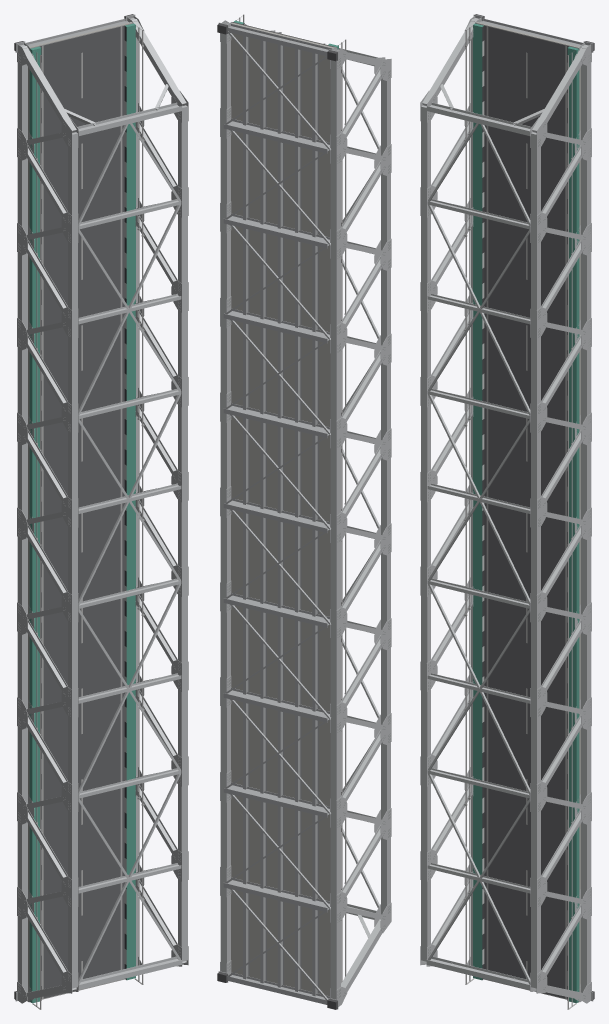
3 views of the same model, side by side, from view 1: azimuth 30°, elevation 25°; view 2: azimuth 150°, elevation 25°; view 3: azimuth 330°, elevation 25° (orthographic).
Visible parts, largest first — view 1: B2_baja, B2_aspal, B2_kerb, B2_merah_lantai, B2_marka_putih_lantai, B2_putih, B2_beton, B2_hitam, B2_baut, B2_marka_kuning_lantai, B2_baja_bawah; view 2: B2_beton, B2_baja_bawah, B2_baja, B2_merah_lantai, B2_baut, B2_bantalan; view 3: B2_baja, B2_aspal, B2_kerb, B2_merah_lantai, B2_marka_putih_lantai, B2_putih, B2_beton, B2_hitam, B2_baut, B2_marka_kuning_lantai, B2_baja_bawah.
Boxes of the visible parts, x1,y1,x2,y2 form: B2_baja: [17, 16, 188, 1003]; B2_aspal: [40, 25, 124, 998]; B2_kerb: [29, 23, 135, 1003]; B2_merah_lantai: [32, 25, 144, 1009]; B2_marka_putih_lantai: [42, 25, 122, 999]; B2_putih: [41, 40, 126, 985]; B2_beton: [28, 22, 132, 1000]; B2_hitam: [41, 26, 126, 1000]; B2_baut: [18, 55, 180, 998]; B2_marka_kuning_lantai: [81, 52, 82, 989]; B2_baja_bawah: [15, 14, 135, 1001]; B2_beton: [231, 23, 335, 996]; B2_baja_bawah: [218, 22, 338, 1009]; B2_baja: [220, 20, 391, 1006]; B2_merah_lantai: [235, 14, 346, 983]; B2_baut: [227, 35, 390, 998]; B2_bantalan: [217, 23, 337, 1009]; B2_baja: [420, 16, 591, 1003]; B2_aspal: [484, 25, 568, 998]; B2_kerb: [473, 23, 579, 1003]; B2_merah_lantai: [464, 25, 576, 1009]; B2_marka_putih_lantai: [486, 25, 566, 999]; B2_putih: [482, 40, 567, 985]; B2_beton: [476, 22, 580, 1000]; B2_hitam: [482, 26, 567, 1000]; B2_baut: [428, 55, 590, 998]; B2_marka_kuning_lantai: [526, 52, 527, 989]; B2_baja_bawah: [473, 14, 593, 1001].
Size of the model in its own units: 8.24 by 63.27 by 6.95.
